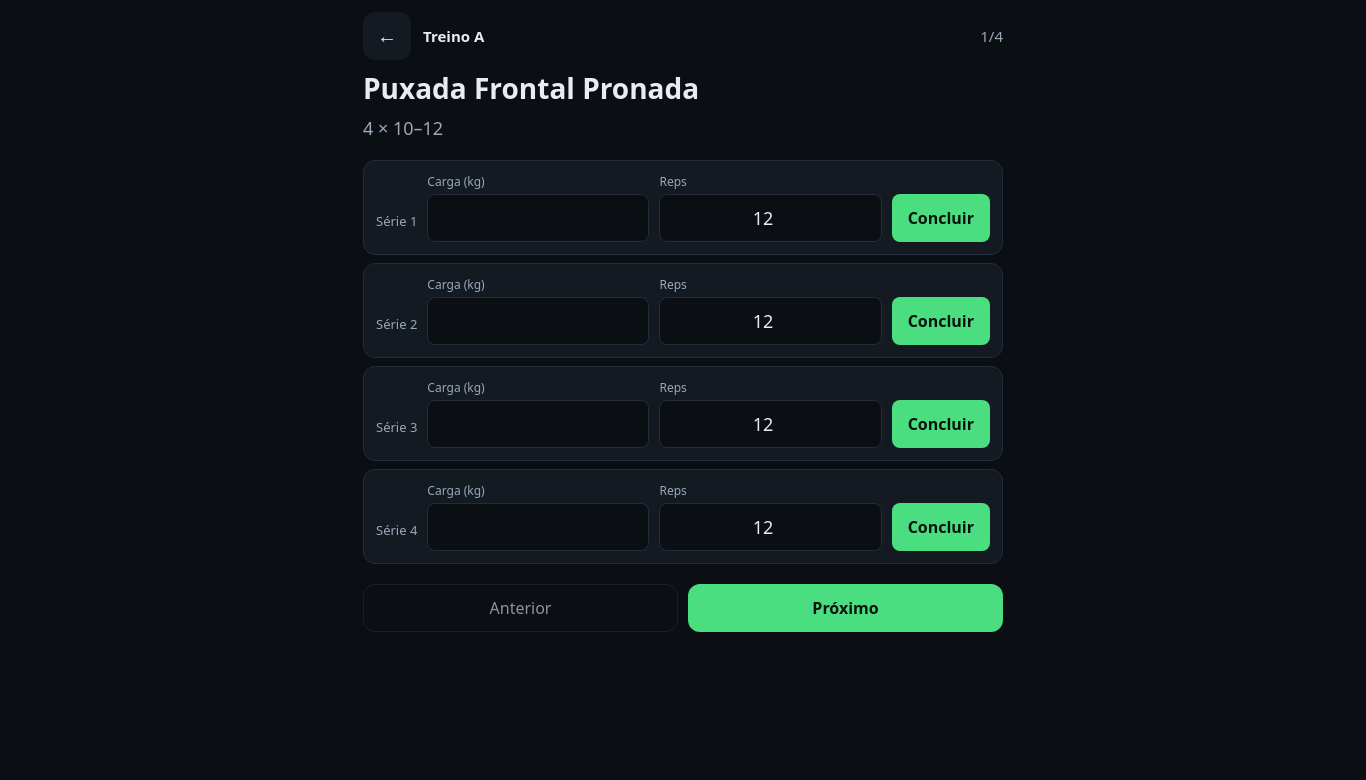
Test: ExecucaoTreino › registrar sobrevive ao mundo real › a próxima série já sugere a carga que acabou de ser levantada
Type "80" into the number field named "Carga da série 1, em quilos" at (538, 218), box x1=427 y1=194 x2=649 y2=242
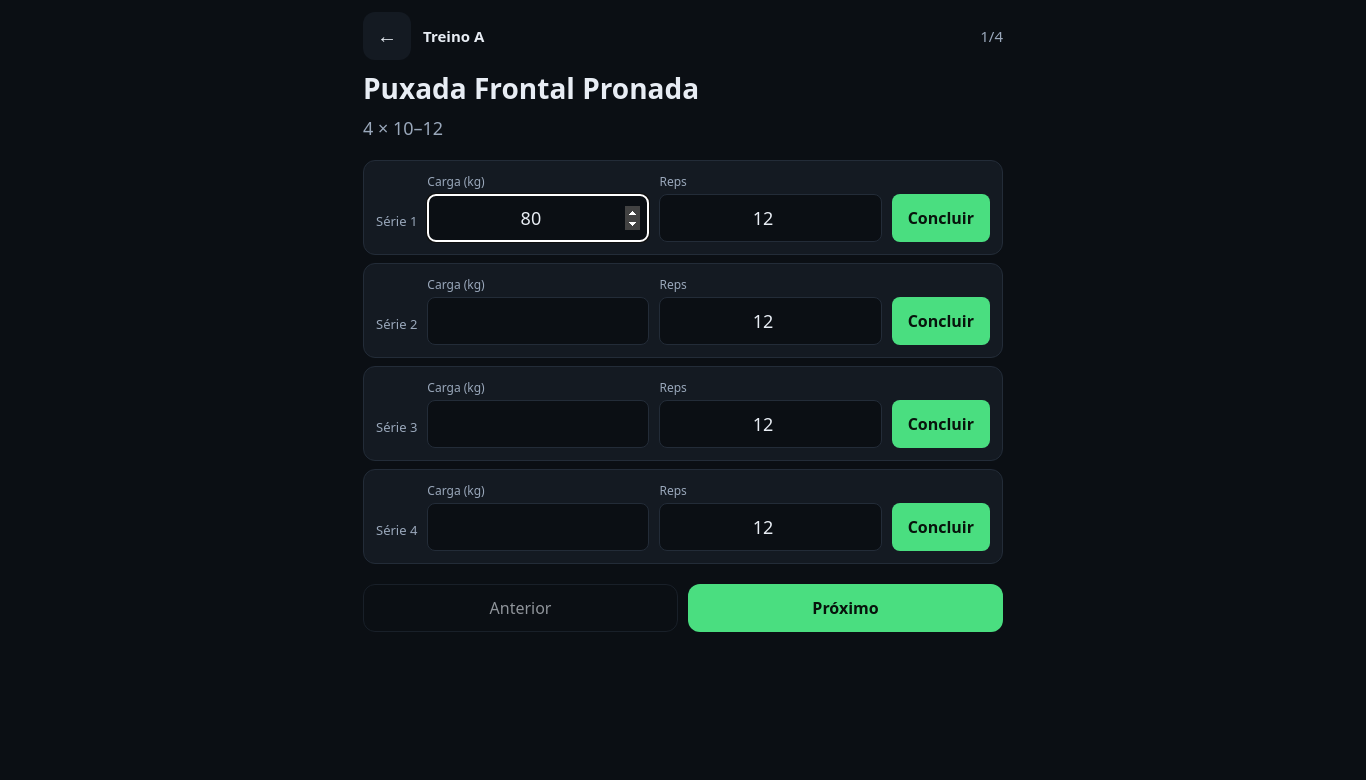
Click the button with aria-label "Concluir série 1" at (941, 218), box x1=892 y1=194 x2=990 y2=242
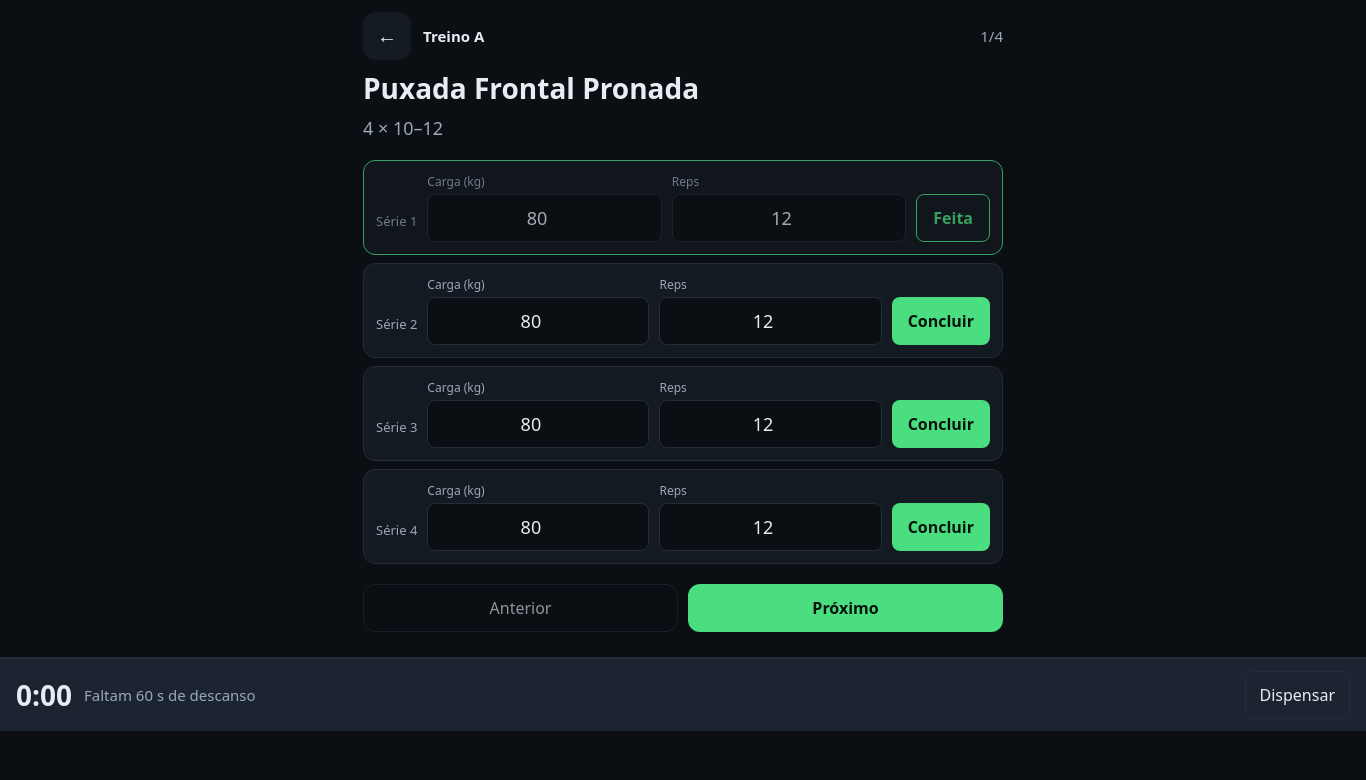
Result: the number field named "Carga da série 2, em quilos" holds "80" at x1=427 y1=297 x2=649 y2=345
Result: the number field named "Carga da série 4, em quilos" holds "80" at x1=427 y1=503 x2=649 y2=551
